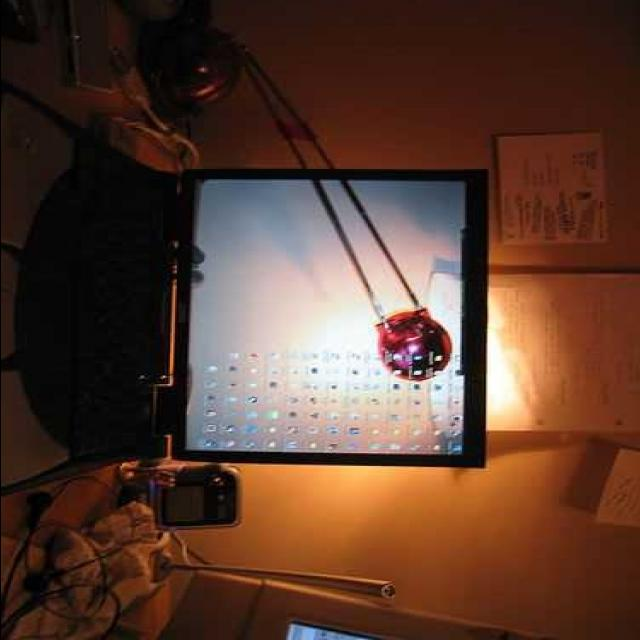laptop: (0, 172, 479, 464)
